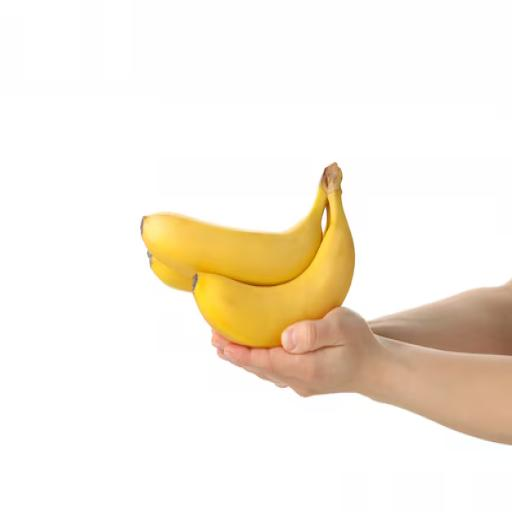banana: (192, 191, 354, 345), (145, 202, 327, 282)
